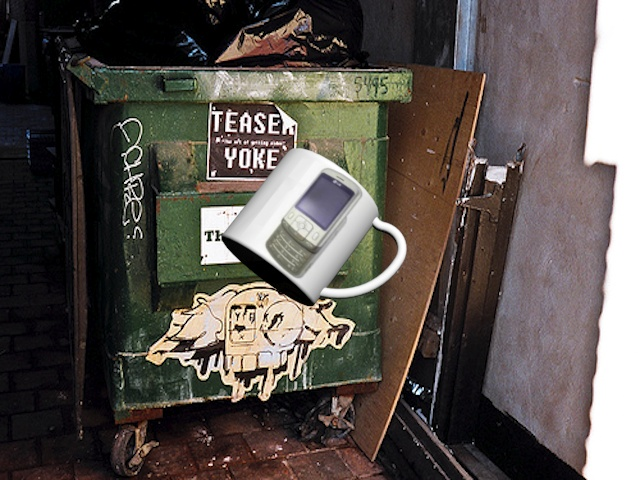mug: (217, 145, 408, 312)
